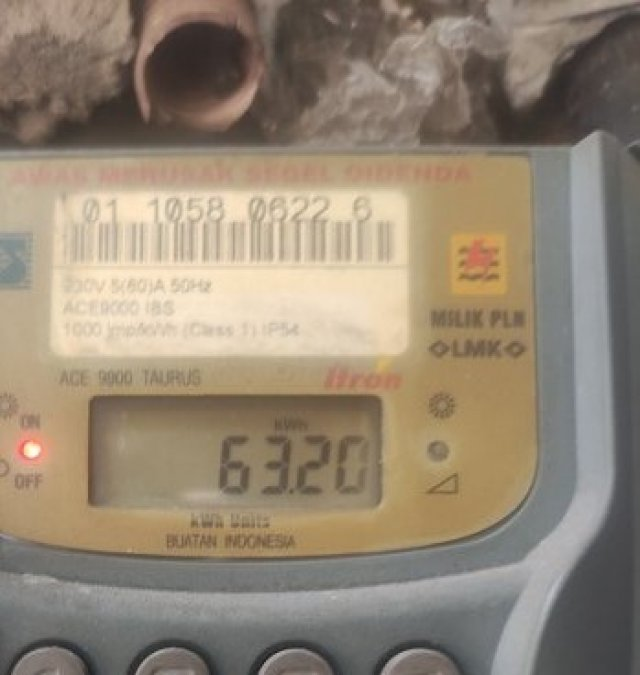box: (90, 395, 380, 509)
